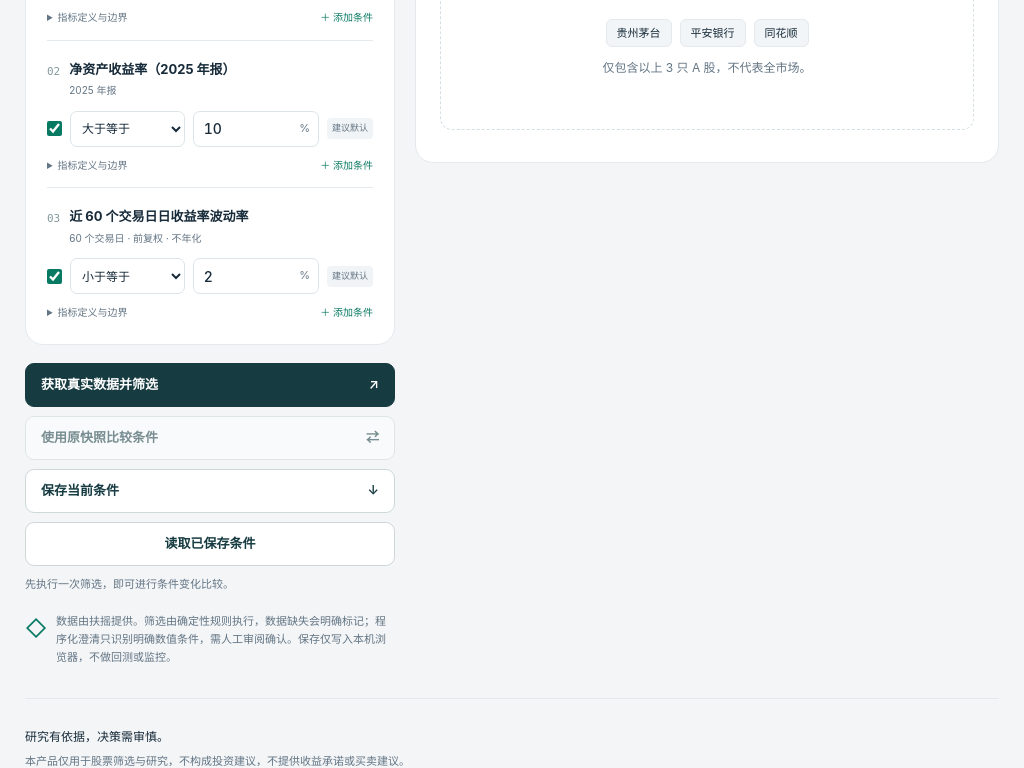
Test: expired comparison keeps prior results and asks for explicit refresh
(page scrolled)
Step 1. Click the button "获取真实数据并筛选 ↗" → point(100, 384), box [25,363,395,407]
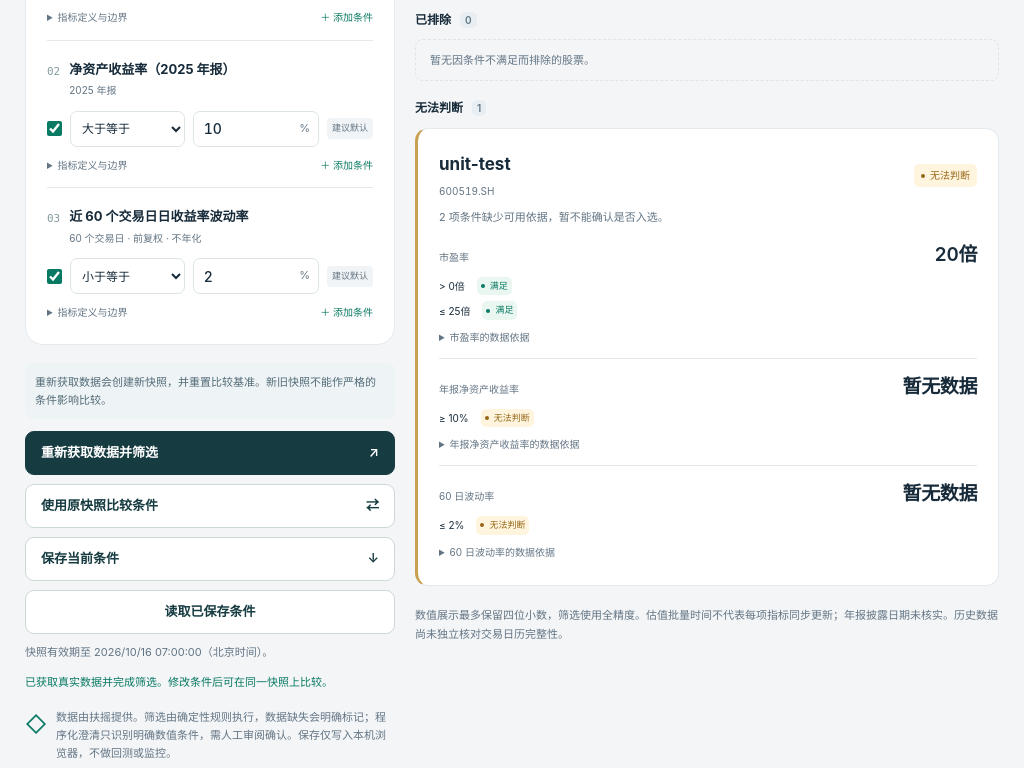
Expected: the text "已获取真实数据并完成筛选。修改条件后可在同一快照上比较。" is shown, [25,675,333,689]
Step 2. Click the button "使用原快照比较条件 ⇄" → point(100, 505), box [25,484,395,528]
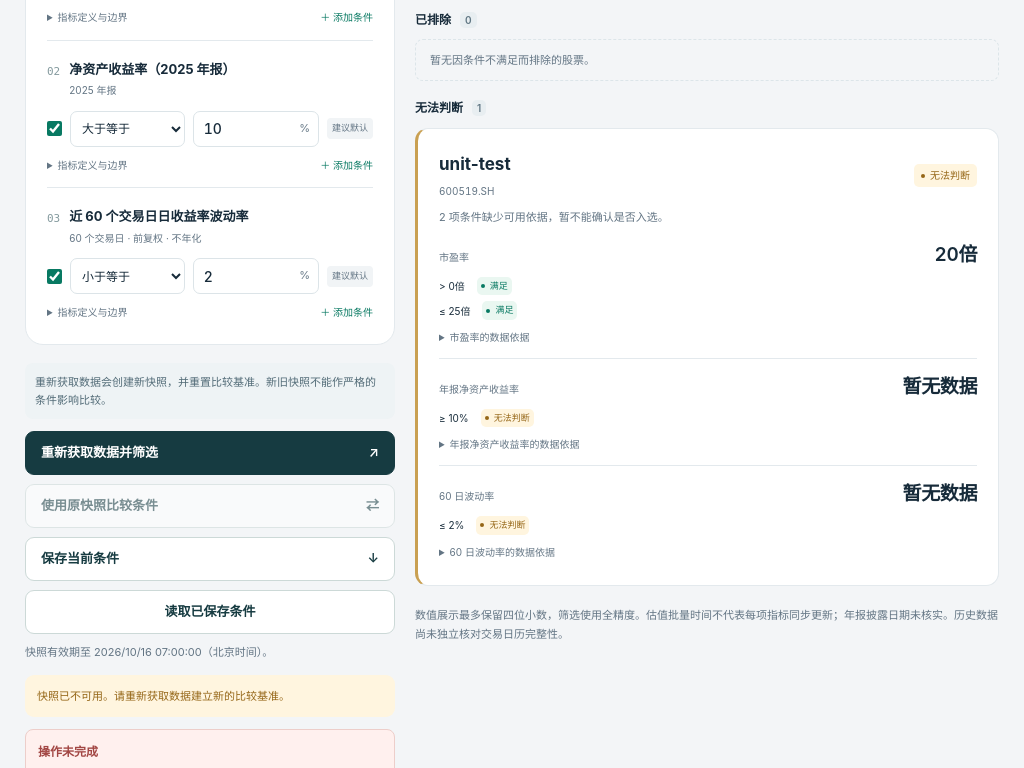
Expected: the text "快照已不可用。请重新获取数据建立新的比较基准。" is shown, [25,675,395,717]
